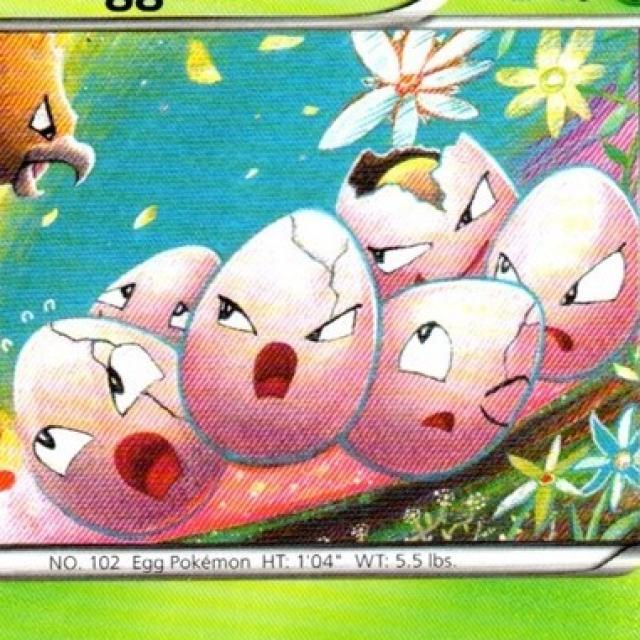Exeggcute: (24, 140, 630, 534)
